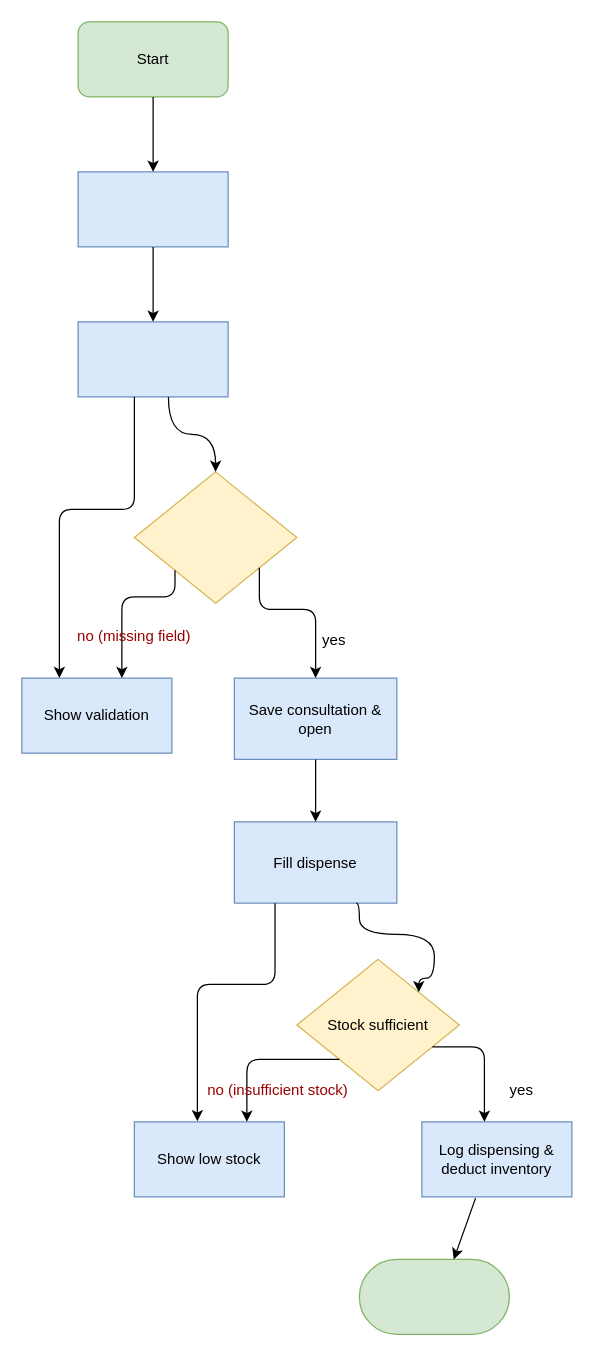
Image size: 594x1356. Some labels were removed from this diagram. The box of each missing label's shape, as (x1, y1, x2, y2) in pixels:
All require fields valid?: (133, 471, 297, 603)
End: (358, 1258, 509, 1334)
Fill log: (77, 321, 228, 397)
Open consultations: (77, 171, 228, 247)
